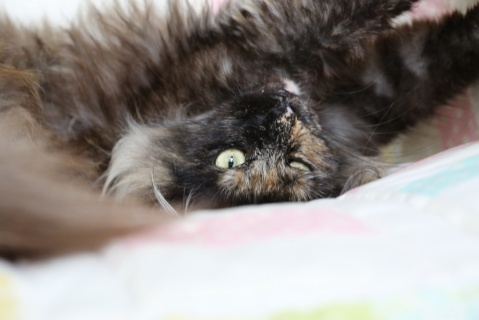Cat: (0, 0, 479, 223)
